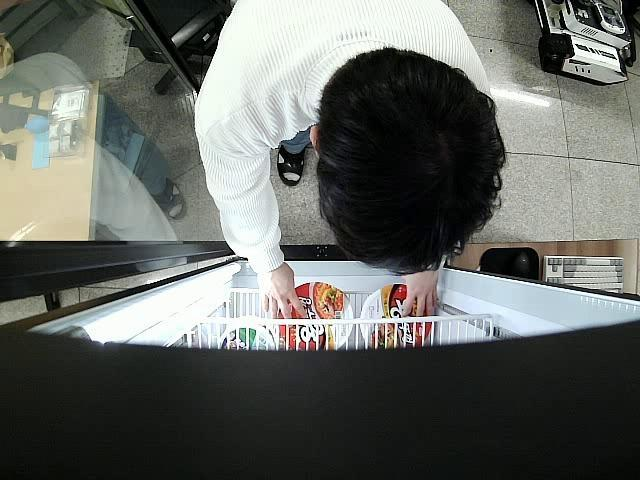10_wangTtukkeong: (279, 282, 352, 350), (361, 286, 433, 348)
